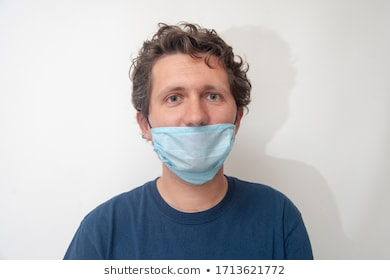mask_weared_incorrect: (151, 69, 237, 177)
